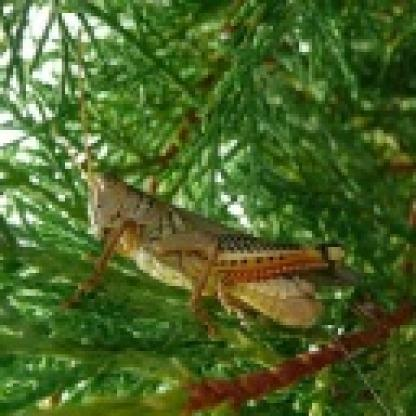grasshopper: (78, 165, 358, 343)
